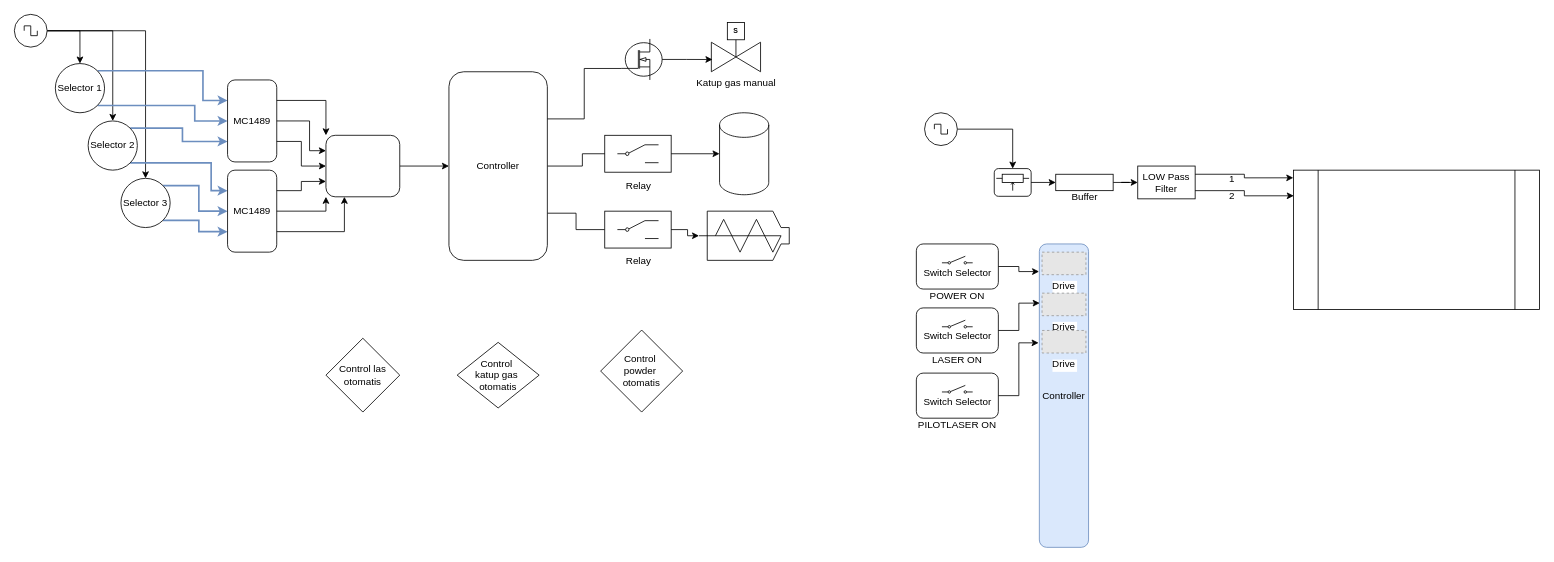
The diagram is 1554 pixels wide and 562 high, and some of its shapes have lost their labels. Grey dashed boxes stand in for pictures. Each missing label, with the centre of its shape:
"10V" goes at [940,129].
"24V" goes at [30,30].
"Analog Input" goes at [1012,182].
"LM741" goes at [1084,182].
"Logic level shifter" goes at [362,165].
"Mesin Las Manual" goes at [743,235].
"MOSFET" goes at [641,59].
"Motor Powder Manual" goes at [744,153].
"XC103 Coherent Customer Interface" goes at [1416,239].
